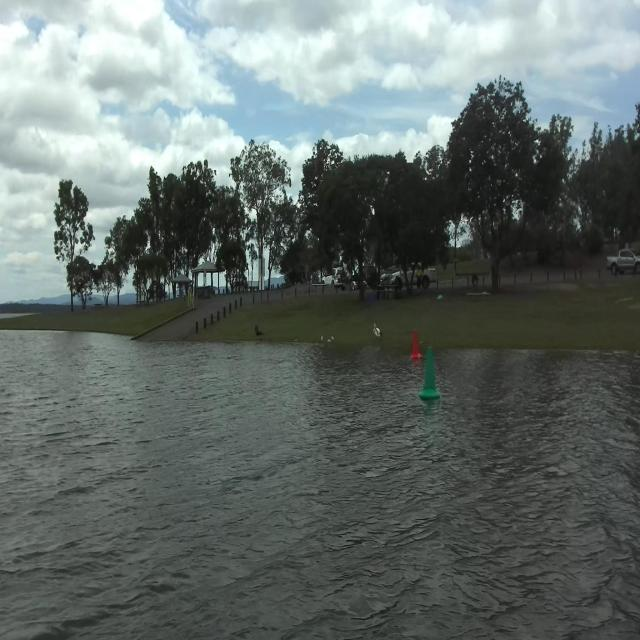Green_Buoy: (416, 342, 444, 405)
Orange__Buoy: (405, 335, 425, 362)
